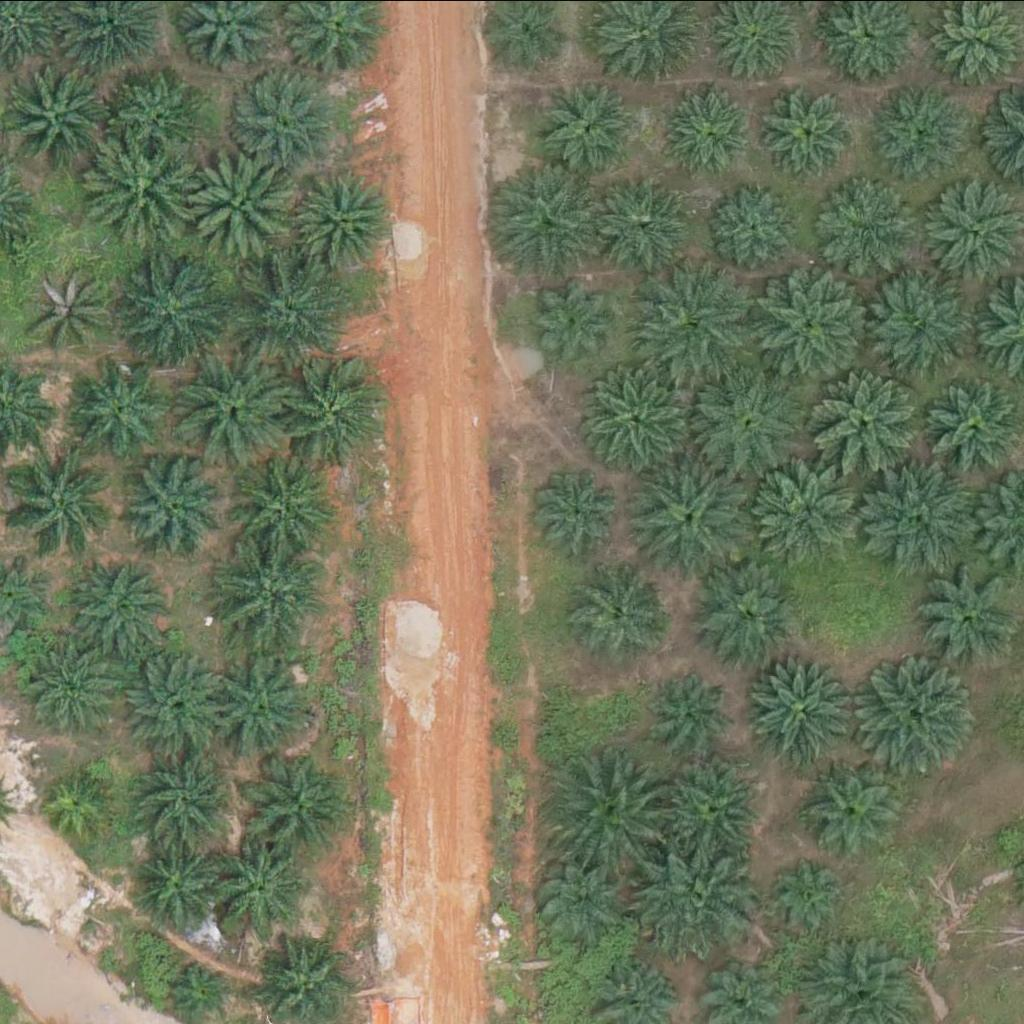Kelapa_Sawit: (757, 264, 871, 377), (862, 660, 976, 773), (642, 264, 755, 377), (812, 366, 925, 479), (583, 366, 696, 479), (753, 452, 866, 565), (277, 352, 390, 465), (118, 647, 231, 760), (206, 650, 319, 763), (245, 748, 358, 861), (861, 265, 975, 377), (689, 368, 803, 480), (484, 165, 598, 277), (215, 543, 329, 655), (632, 455, 745, 567), (868, 458, 981, 570), (748, 650, 861, 762), (561, 753, 674, 865), (640, 843, 753, 955), (868, 82, 981, 194), (815, 175, 928, 287), (83, 137, 196, 249), (181, 150, 294, 262), (236, 248, 349, 360), (115, 252, 228, 364), (177, 354, 290, 466), (234, 453, 347, 565), (526, 461, 627, 561), (914, 567, 1015, 667), (699, 566, 800, 666), (659, 759, 760, 859), (526, 853, 627, 953), (757, 79, 858, 179), (596, 175, 697, 275), (230, 70, 331, 170), (123, 458, 224, 558), (74, 558, 175, 658), (140, 750, 241, 850), (131, 835, 232, 935), (576, 562, 676, 662), (801, 758, 901, 858), (655, 83, 755, 183), (531, 76, 631, 176), (293, 171, 393, 271), (65, 360, 165, 460), (22, 635, 122, 735), (211, 840, 311, 940), (114, 72, 202, 160), (529, 273, 617, 360), (650, 666, 738, 753), (767, 853, 855, 940), (714, 178, 802, 265), (27, 263, 115, 350), (45, 767, 120, 842)
